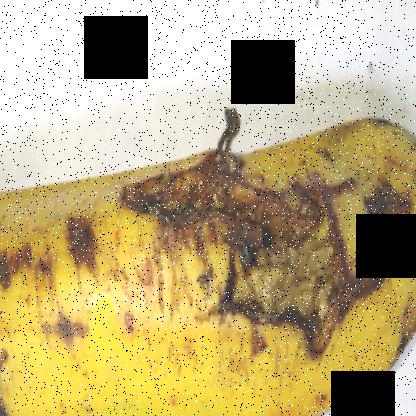ripe: (1, 100, 415, 415)
rotten: (131, 99, 385, 367), (1, 314, 43, 415)
